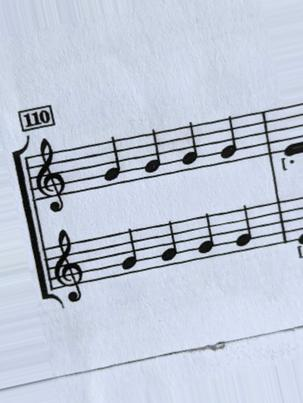note: (99, 134, 127, 186), (179, 119, 205, 174), (217, 115, 244, 167), (113, 229, 144, 274), (155, 218, 183, 266), (192, 215, 218, 266), (228, 207, 256, 254), (141, 127, 165, 180)
